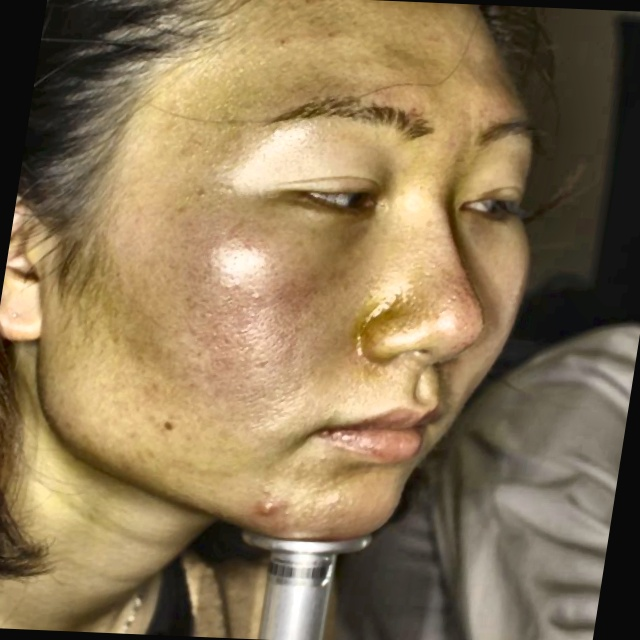comedone: (252, 492, 295, 529)
